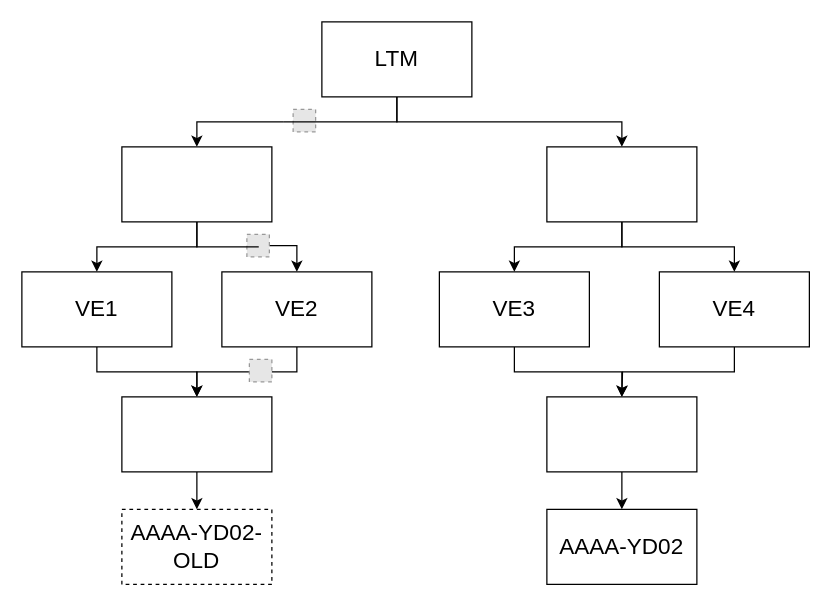
The diagram is 831 pixels wide and 606 high, and some of its shapes have lost their labels. Grey dashed boxes stand in for pictures. Here are the shapes that lost their labels. From the top down, the centre of each, then its label:
At (196,184): "VS1".
At (621,184): "VS2".
At (196,434): "cluster1".
At (621,434): "cluster2".
